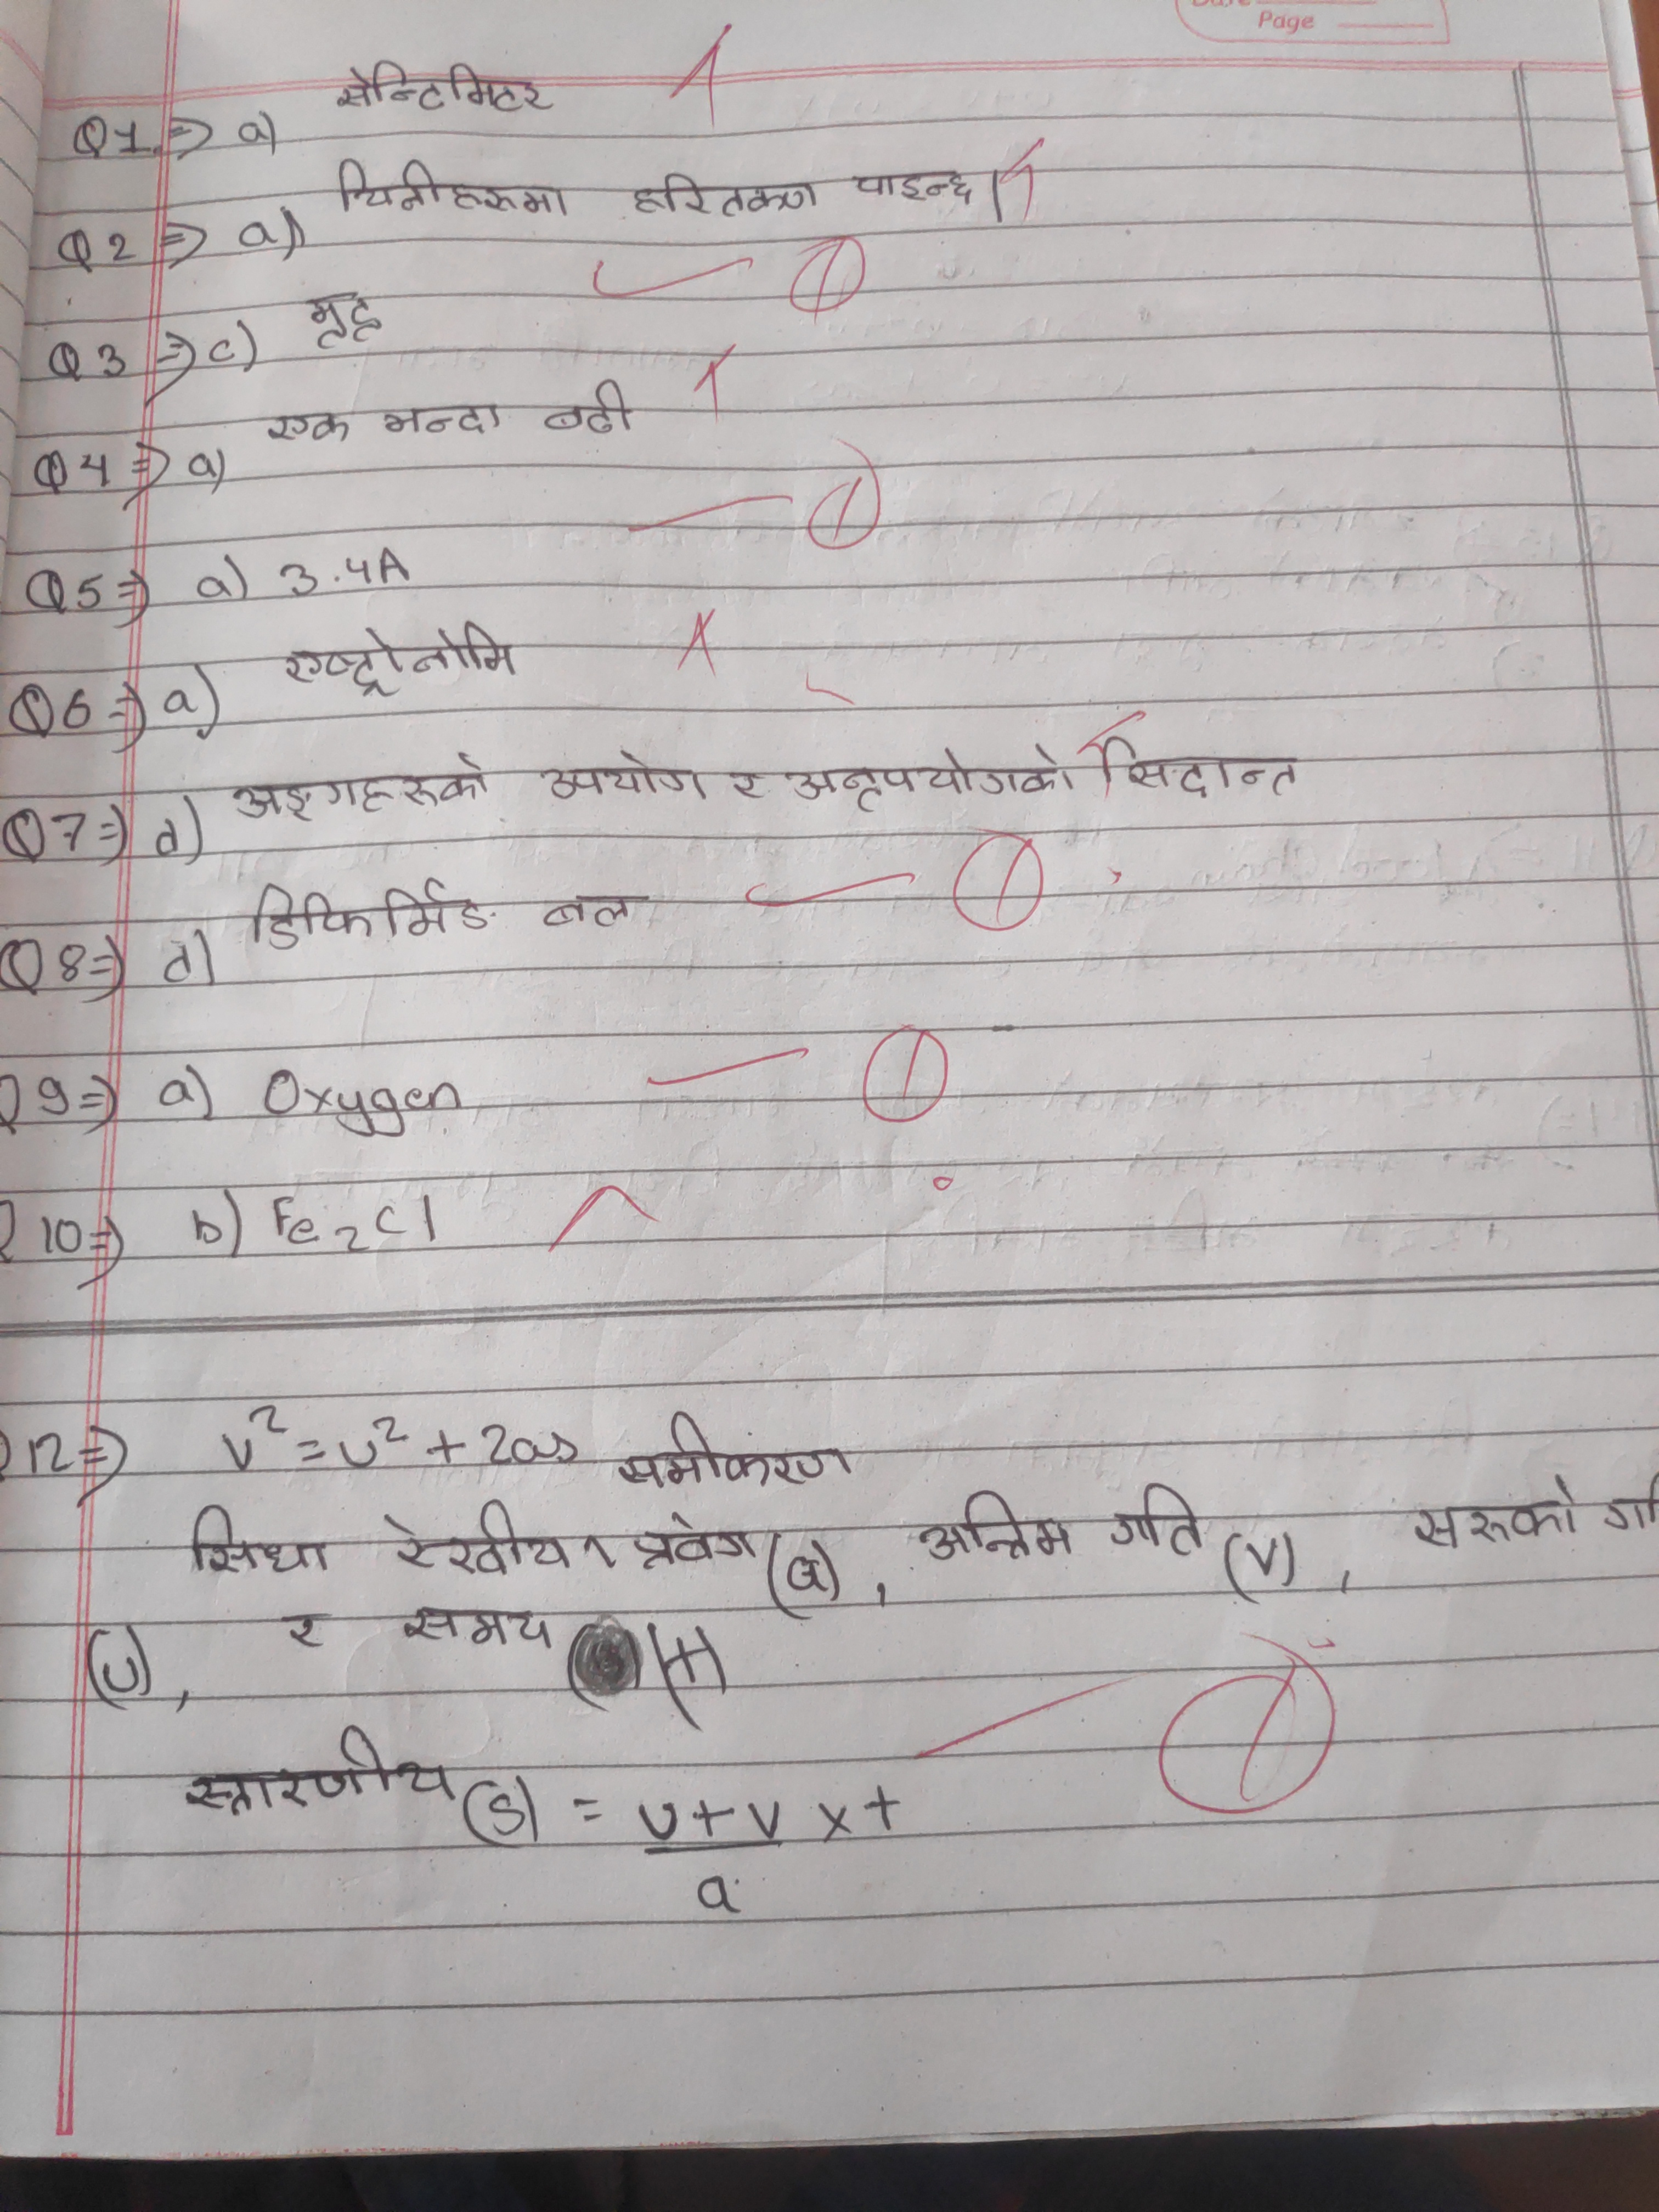text: (181, 1719, 464, 1822), (781, 742, 1082, 813), (612, 1409, 859, 1491), (230, 751, 493, 824), (240, 878, 498, 949), (281, 625, 532, 693), (383, 1494, 579, 1581), (329, 155, 568, 219), (1408, 1470, 1588, 1554), (910, 1484, 1080, 1569), (1093, 733, 1309, 799), (333, 57, 558, 120), (174, 1500, 338, 1581), (532, 747, 716, 803), (627, 167, 823, 219), (624, 1505, 760, 1580), (403, 1599, 559, 1656), (1108, 1475, 1208, 1559), (380, 394, 505, 444), (296, 287, 389, 354), (540, 380, 640, 439), (535, 880, 645, 932), (845, 162, 981, 204), (260, 409, 361, 446), (270, 1608, 338, 1656), (723, 758, 770, 810)
